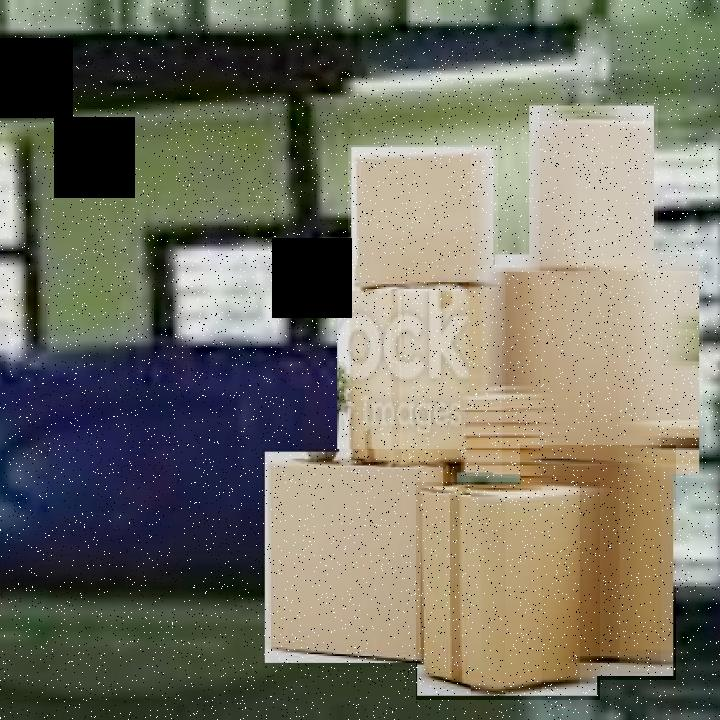box: (493, 252, 703, 478), (262, 449, 461, 667), (416, 482, 600, 700), (520, 445, 676, 680), (338, 265, 504, 476), (530, 103, 660, 290), (348, 145, 498, 289)
